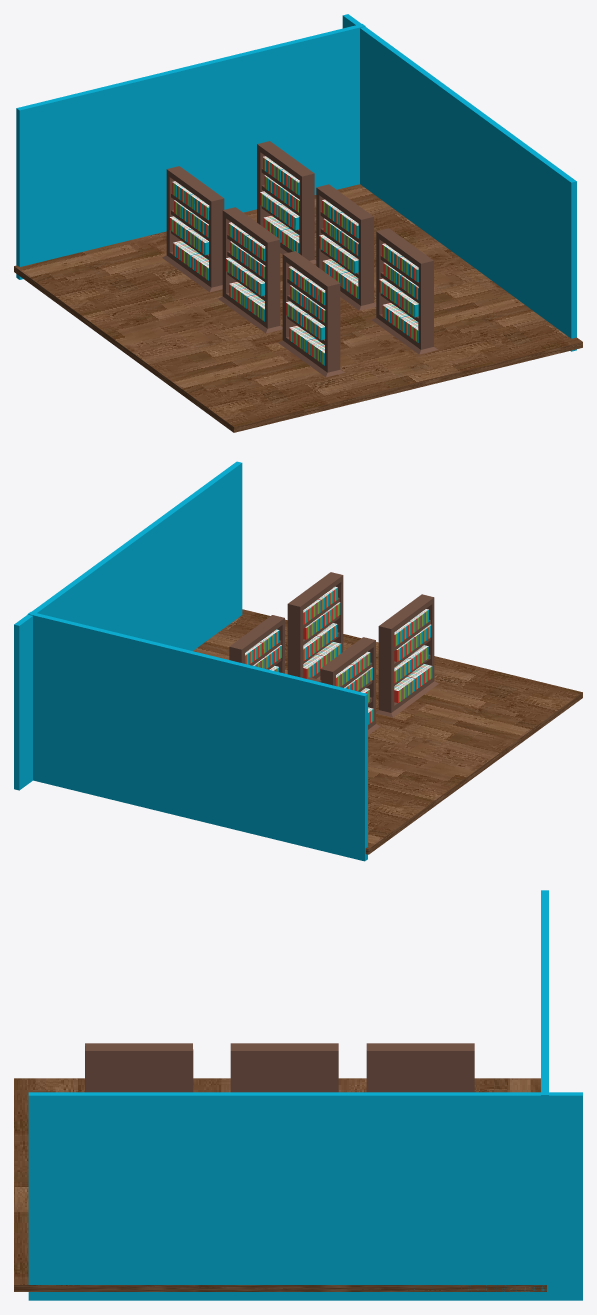
The model's file is Oxygenkilund.glb.
3 views of the same model, one above another, from view 1: azimuth 30°, elevation 25°; view 2: azimuth 150°, elevation 25°; view 3: azimuth 270°, elevation 25° (orthographic). The views are drawn at different scales.
Visible parts, largest first — view 1: Cube.001, Cube, Cube.002, group1295511530.002, group1295511530.005, group1295511530.004, group1295511530.003, group1295511530.001, group1295511530; view 2: Cube.001, Cube.002, Cube, group1295511530.005, group1295511530.004, group1295511530.002, group1295511530.001; view 3: Cube.002, Cube, group1295511530.002, group1295511530.003, group1295511530.005, Cube.001.
Part boxes in pixels (x1,y1,x2,y2): Cube.001: (16, 24, 365, 279); Cube: (14, 184, 582, 432); Cube.002: (342, 14, 576, 351); group1295511530.002: (218, 207, 282, 333); group1295511530.005: (278, 251, 344, 377); group1295511530.004: (372, 228, 438, 354); group1295511530.003: (162, 166, 224, 292); group1295511530.001: (316, 184, 376, 310); group1295511530: (257, 141, 316, 263); Cube.001: (27, 612, 367, 861); Cube.002: (14, 461, 242, 790); Cube: (193, 609, 582, 854); group1295511530.005: (376, 594, 438, 717); group1295511530.004: (287, 572, 343, 679); group1295511530.002: (320, 637, 380, 735); group1295511530.001: (229, 615, 284, 673); Cube.002: (28, 1092, 582, 1300); Cube: (14, 1078, 546, 1291); group1295511530.002: (230, 1043, 338, 1092); group1295511530.003: (366, 1043, 474, 1092); group1295511530.005: (85, 1043, 193, 1092); Cube.001: (541, 890, 548, 1300).
Size of the model in its own units: 14.65 by 6.8 by 17.05.
Materials: 7 (1 with a texture image).
